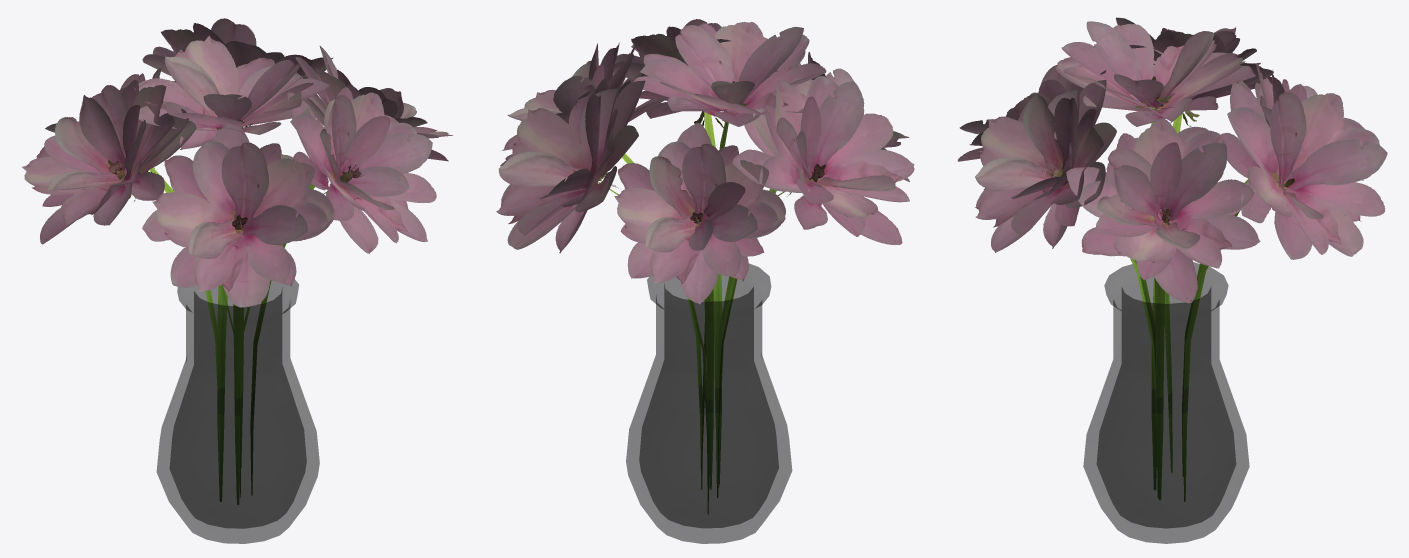
File: magnolia.glb
The picture shows the model from 3 angles, left to right: view 1: azimuth 30°, elevation 25°; view 2: azimuth 150°, elevation 25°; view 3: azimuth 270°, elevation 25°; orthographic projection.
Visible parts, largest first — view 1: flowers_magnolia_003_flowers_magnolia_0, flowers_magnolia_003_flowers_magnolia_bowl_0, flowers_magnolia_003_flowers_magnolia_water_0, flowers_magnolia_003_flowers_magnolia_stem_0; view 2: flowers_magnolia_003_flowers_magnolia_0, flowers_magnolia_003_flowers_magnolia_bowl_0, flowers_magnolia_003_flowers_magnolia_water_0, flowers_magnolia_003_flowers_magnolia_stem_0; view 3: flowers_magnolia_003_flowers_magnolia_0, flowers_magnolia_003_flowers_magnolia_bowl_0, flowers_magnolia_003_flowers_magnolia_water_0, flowers_magnolia_003_flowers_magnolia_stem_0.
Boxes of the visible parts, x1=… form: flowers_magnolia_003_flowers_magnolia_0: x1=22, y1=18, x2=452, y2=307; flowers_magnolia_003_flowers_magnolia_bowl_0: x1=156, y1=279, x2=319, y2=543; flowers_magnolia_003_flowers_magnolia_water_0: x1=170, y1=371, x2=306, y2=528; flowers_magnolia_003_flowers_magnolia_stem_0: x1=149, y1=167, x2=326, y2=504; flowers_magnolia_003_flowers_magnolia_0: x1=496, y1=19, x2=914, y2=304; flowers_magnolia_003_flowers_magnolia_bowl_0: x1=626, y1=263, x2=792, y2=543; flowers_magnolia_003_flowers_magnolia_water_0: x1=639, y1=368, x2=778, y2=527; flowers_magnolia_003_flowers_magnolia_stem_0: x1=598, y1=112, x2=784, y2=514; flowers_magnolia_003_flowers_magnolia_0: x1=957, y1=17, x2=1387, y2=303; flowers_magnolia_003_flowers_magnolia_bowl_0: x1=1083, y1=262, x2=1249, y2=543; flowers_magnolia_003_flowers_magnolia_water_0: x1=1097, y1=369, x2=1235, y2=528; flowers_magnolia_003_flowers_magnolia_stem_0: x1=1130, y1=107, x2=1248, y2=501.
Bounding box in the file's own units: 533 × 595 × 506.
4 materials, 2 textured.
